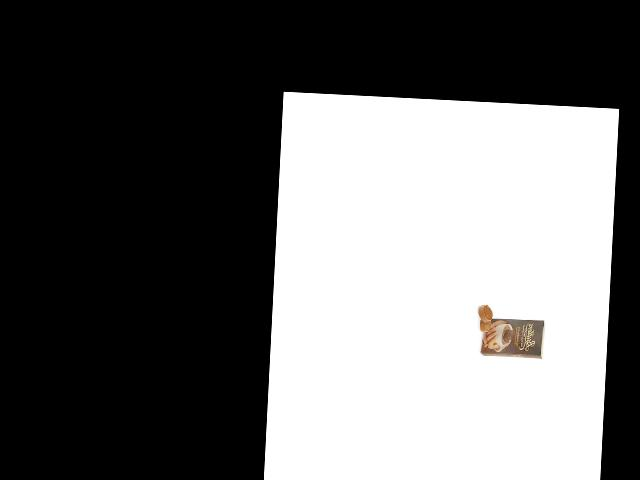chocolate: (478, 311, 547, 361)
